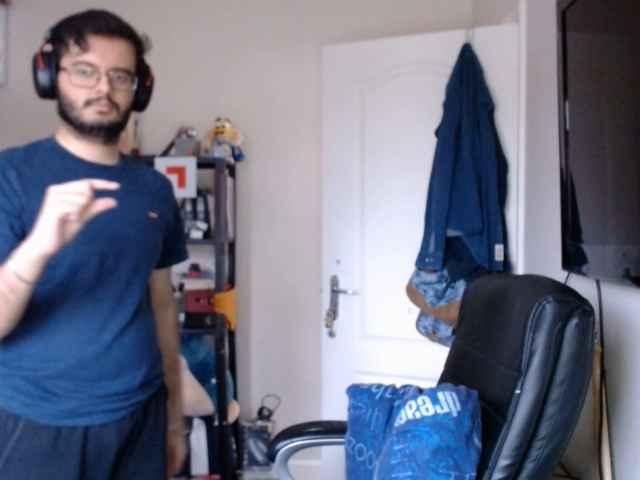Small: (19, 172, 131, 257)
